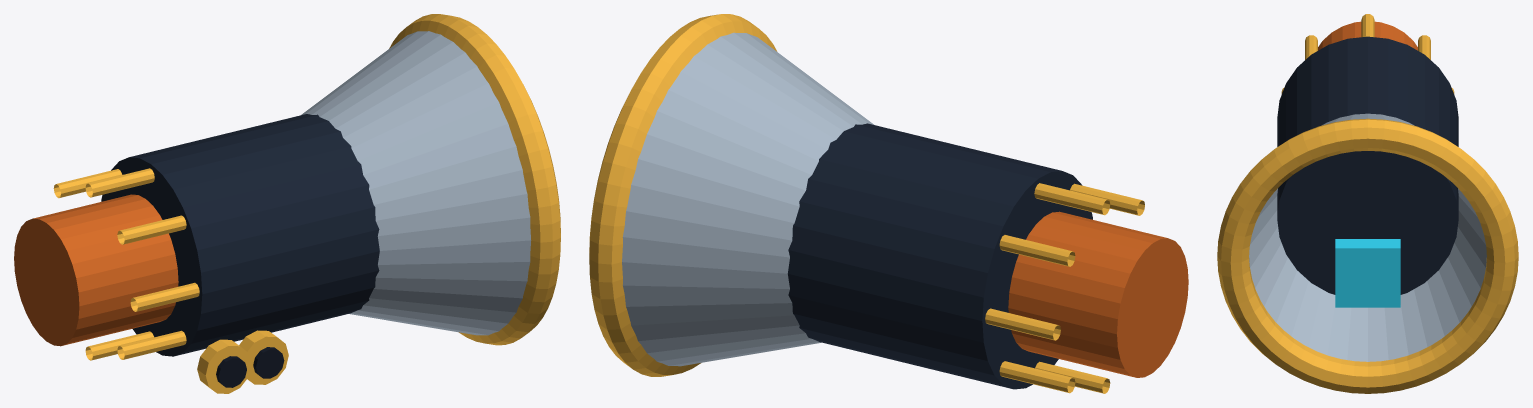
The model's file is 25_L85_RCSMinusXThruster.fbx.
3 renders of one model, left to right at view 1: azimuth 30°, elevation 25°; view 2: azimuth 150°, elevation 25°; view 3: azimuth 270°, elevation 25°, orthographic. The views are drawn at different scales.
Visible parts, largest first — view 1: L85_RCSMinusXThruster, L85_RCSMinusXThruster_Part_0005, L85_RCSMinusXThruster_Part_0007, L85_RCSMinusXThruster_Part_0008, L85_RCSMinusXThruster_Part_0006; view 2: L85_RCSMinusXThruster; view 3: L85_RCSMinusXThruster, L85_RCSMinusXThruster_Part_0004.
Boxes of the visible parts, <box> form: L85_RCSMinusXThruster: <box>14,14,560,360</box>; L85_RCSMinusXThruster_Part_0005: <box>197,339,251,393</box>; L85_RCSMinusXThruster_Part_0007: <box>239,330,288,384</box>; L85_RCSMinusXThruster_Part_0008: <box>253,347,284,378</box>; L85_RCSMinusXThruster_Part_0006: <box>216,356,246,387</box>; L85_RCSMinusXThruster: <box>589,14,1188,393</box>; L85_RCSMinusXThruster: <box>1217,14,1518,393</box>; L85_RCSMinusXThruster_Part_0004: <box>1335,239,1400,307</box>.
Bounding box in the file's own units: 133 × 83 × 83.
